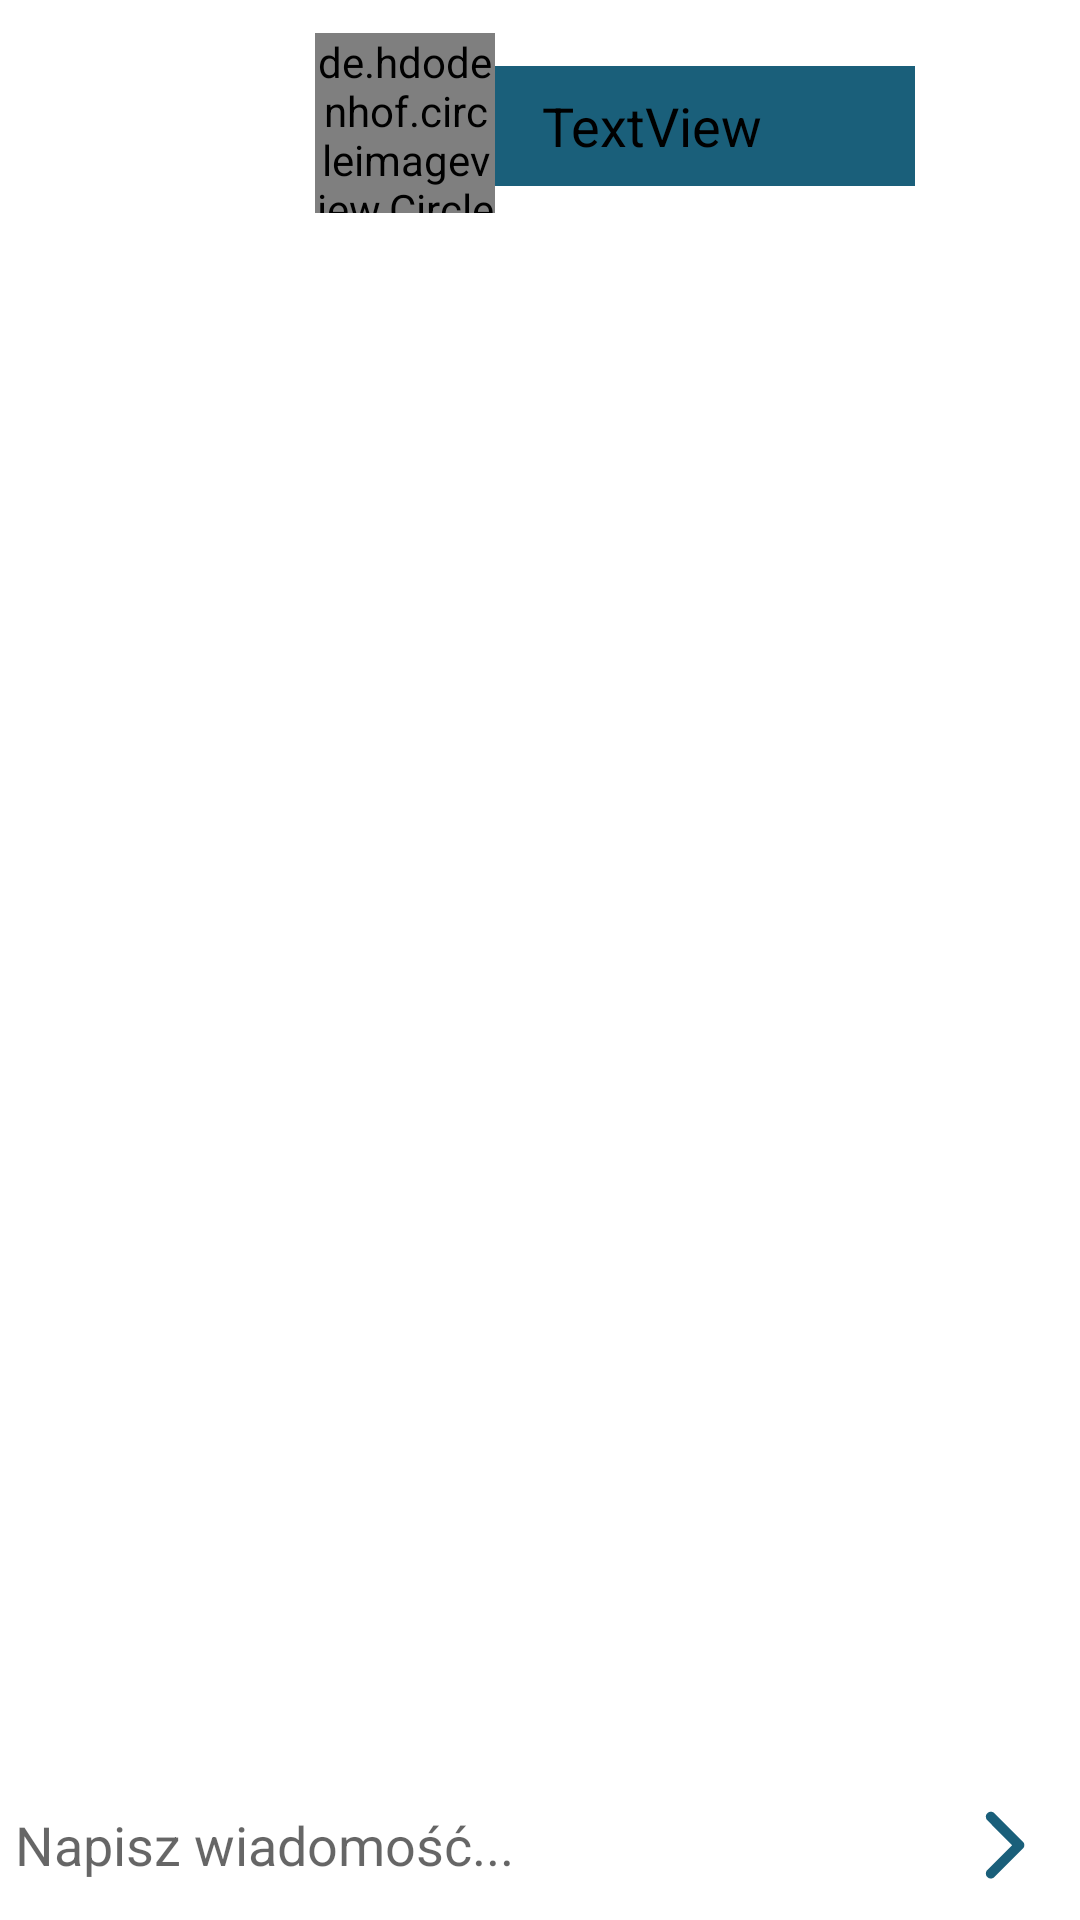

Point at icon controls on the screen. Image size 1080w x 1920h, points as point (x, y).
send msg: point (1005, 1845)
